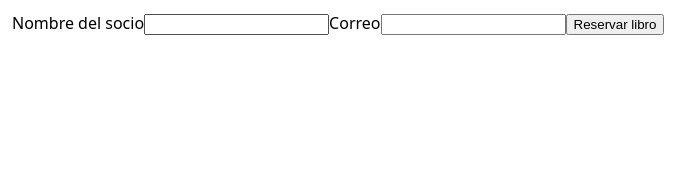
Test case: FormularioReserva › con datos correctos, llama a onReservar una sola vez con el nombre y el correo sin espacios sobrantes, y vacía los campos
In the field labelled "Nombre del socio": (237, 24) [144,14,329,35], type " PEPE "
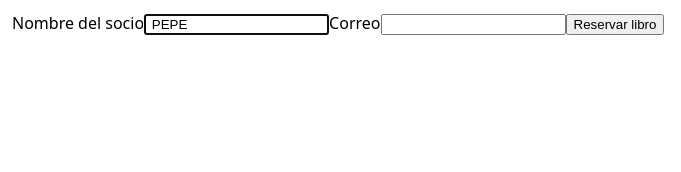
In the field labelled "Correo": (473, 24) [380,14,566,35], type " jose@ejemplo.com "
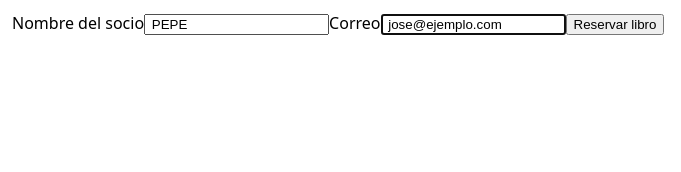
Click the button "Reservar libro": (615, 24) [566,14,664,35]
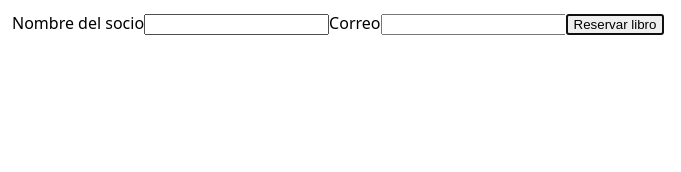
expect the field labelled "Nombre del socio" is empty: met, box [144,14,329,35]
expect the field labelled "Correo" is empty: met, box [380,14,566,35]
